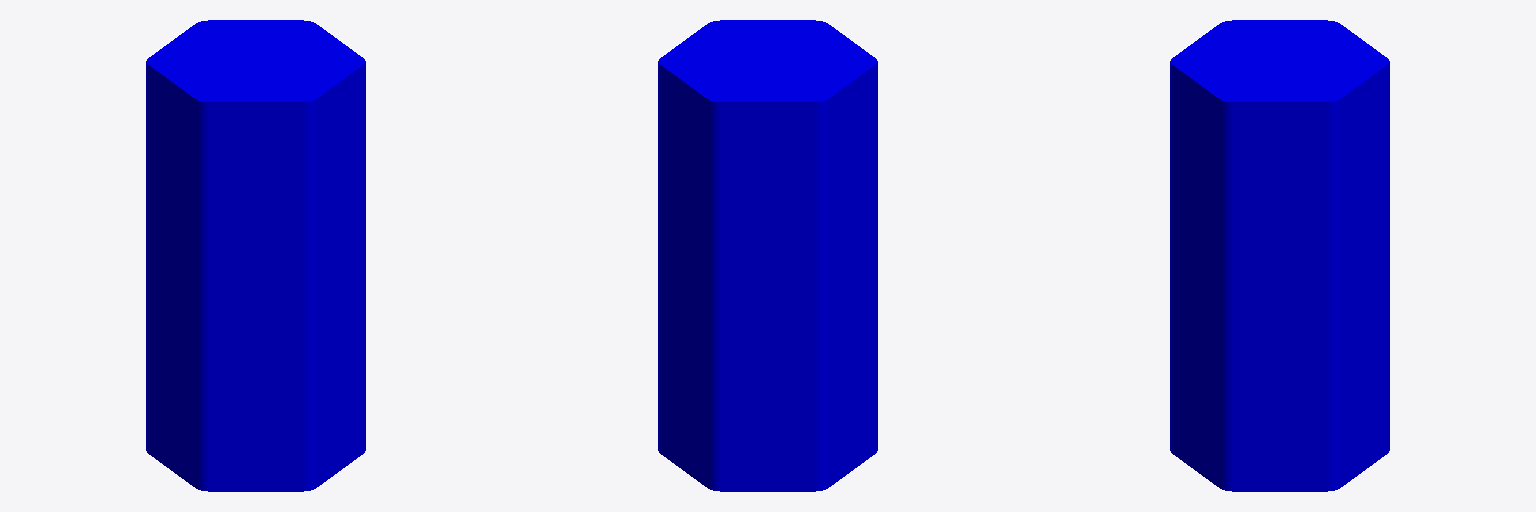
The robot description file, URDF, robot "board1_block8":
<?xml version="1.0"?>
<robot name="board1_block8">
    <link name="board1_block8">
        <visual>
            <origin xyz="0 0 0 " rpy=" 0 0 0"/>
            <geometry>
                <mesh filename="../meshes/SIMO_Board1_Block8.stl" scale="0.001 0.001 0.001"/>
            </geometry>
            <material name="red">
                <color rgba="0.0 0.0 1.0 1.0"/>
            </material>
        </visual>
        <collision>
            <origin xyz="0 0 0" rpy="0 0 0"/>
            <geometry>
                <mesh filename="../meshes/SIMO_Board1_Block8.stl" scale="0.001 0.001 0.001"/>
            </geometry>
        </collision>
    </link>
</robot>

--- Render facts (derived) ---
Views: 3 orthographic renders of the robot side by side, from view 1: azimuth 30°, elevation 25°; view 2: azimuth 150°, elevation 25°; view 3: azimuth 270°, elevation 25°.
Robot: board1_block8 — 1 links, 0 joints (none); root link board1_block8; default pose: all joints at 0.
Visible links, largest first — view 1: board1_block8; view 2: board1_block8; view 3: board1_block8.
Boxes of the visible links, bbox=[...] form: board1_block8: bbox=[146, 20, 365, 491]; board1_block8: bbox=[658, 20, 877, 491]; board1_block8: bbox=[1170, 20, 1389, 491].
Bounding box of the posed robot: 0.0452 × 0.0511 × 0.1 m (x, y, z).
Meshes: 1 distinct files referenced, 1 mesh visuals loaded (1 ASCII STL).
